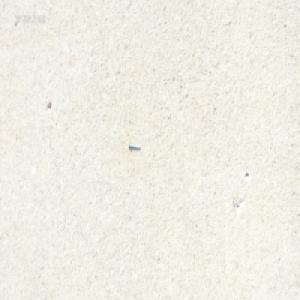Nail: (127, 142, 140, 150)
